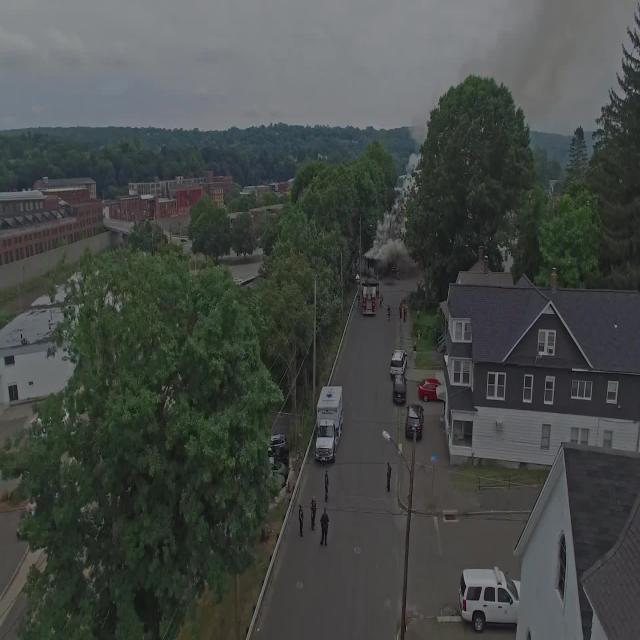Smoke: (483, 0, 601, 109), (386, 221, 418, 281)
